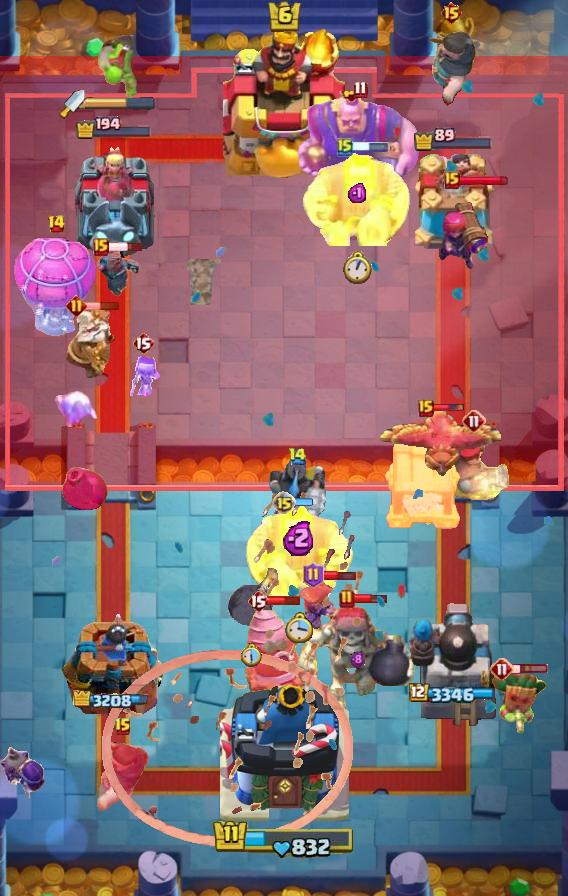baby-dragon: (226, 566, 278, 628), (59, 462, 111, 516)
bar: (70, 142, 158, 256)
bar-level: (96, 35, 146, 101)
battle-ram: (86, 244, 142, 300)
bomb: (383, 436, 463, 530)
cannon-cart: (12, 231, 100, 339)
clock: (212, 818, 356, 860)
electro-giant: (295, 604, 419, 716)
electro-spirit: (283, 519, 317, 556), (348, 182, 366, 203), (351, 651, 366, 669)
elixir: (344, 251, 373, 285), (286, 613, 314, 644), (241, 643, 263, 667)
elixir-collector: (64, 307, 120, 381)
emote: (459, 174, 510, 187), (107, 241, 145, 253), (323, 569, 358, 582), (512, 663, 549, 675), (352, 593, 387, 605), (351, 142, 389, 152), (267, 595, 301, 606), (84, 301, 119, 311), (431, 403, 465, 413), (294, 497, 313, 508)
fisherman: (184, 259, 222, 305)
giant-skeleton: (302, 152, 412, 246), (244, 505, 354, 599)
goblin: (125, 356, 161, 396)
goblin-ball: (0, 745, 46, 803)
goblin-barrel: (488, 668, 548, 736)
inferno-dragon: (266, 457, 328, 547)
king-tower: (219, 678, 349, 826), (223, 27, 345, 181)
king-tower-bar: (85, 97, 155, 111)
lightning: (296, 91, 424, 205)
magic-archer: (243, 605, 309, 703)
mega-minion: (436, 185, 490, 273)
mirror: (52, 389, 102, 427)
mother-witch: (377, 409, 501, 483)
phoenix-small: (437, 436, 511, 500)
queen-tower: (62, 613, 166, 731), (405, 154, 501, 256)
royal-hog: (96, 738, 150, 814), (426, 28, 476, 106)
selected: (414, 127, 495, 153), (409, 683, 497, 705), (75, 116, 153, 140), (73, 690, 155, 712)
skeleton-barrel: (101, 489, 365, 848)
tesla-evolution: (294, 576, 354, 656)
text: (462, 409, 486, 433), (272, 491, 296, 515), (490, 657, 514, 681), (441, 1, 464, 25), (304, 562, 325, 588), (132, 331, 154, 355), (247, 589, 269, 613), (66, 295, 87, 317), (47, 214, 66, 234), (288, 447, 308, 466), (114, 717, 132, 737), (337, 137, 353, 157), (339, 589, 355, 609), (444, 171, 460, 189), (93, 238, 109, 256), (418, 399, 434, 417), (353, 80, 367, 99)
tower-bar: (408, 599, 498, 731)
